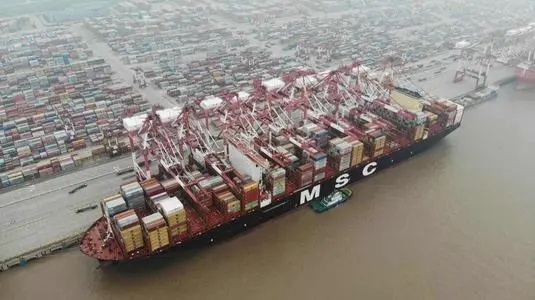Cargoship: (72, 65, 462, 264)
otherboat: (309, 185, 356, 214)
